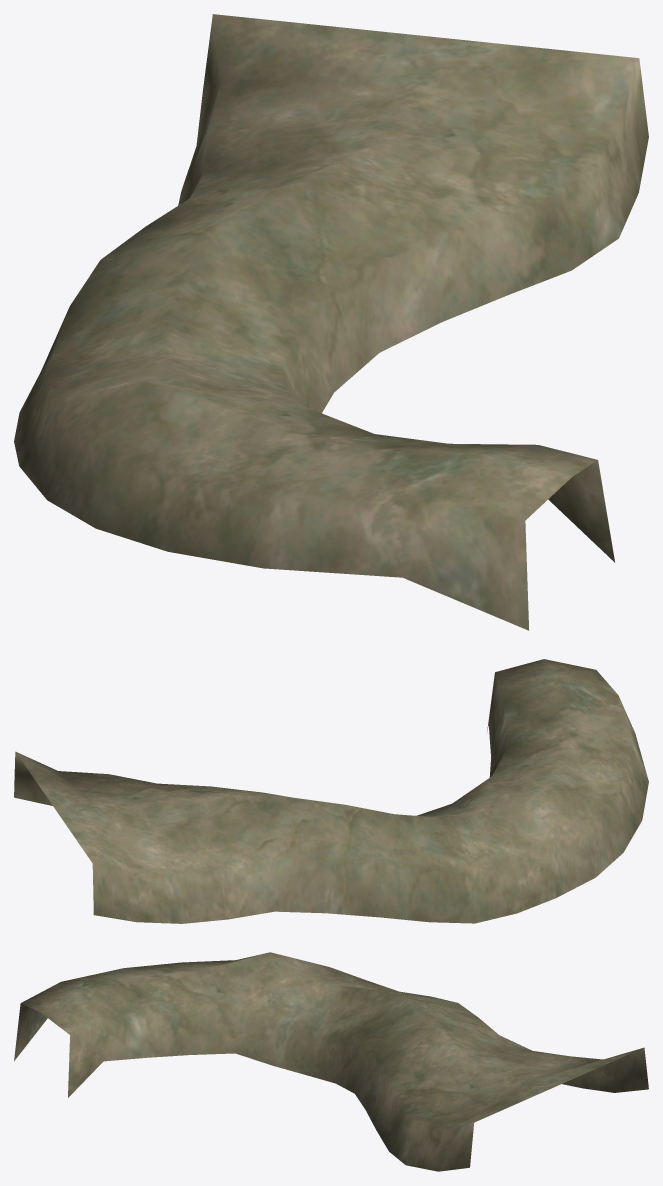
The model's file is EKH_BARRELROOM_PS_JA1_RIVERROOF_747356.fbx.
3 renders of one model, top to bottom at view 1: azimuth 30°, elevation 25°; view 2: azimuth 150°, elevation 25°; view 3: azimuth 270°, elevation 25°, orthographic. The views are drawn at different scales.
Parts seen in each view (by area): view 1: EKH_BARRELROOM_PS_JA1_RIVERROOF_747356; view 2: EKH_BARRELROOM_PS_JA1_RIVERROOF_747356; view 3: EKH_BARRELROOM_PS_JA1_RIVERROOF_747356.
Boxes of the visible parts, x1,y1,x2,y2 form: EKH_BARRELROOM_PS_JA1_RIVERROOF_747356: [14, 14, 648, 630]; EKH_BARRELROOM_PS_JA1_RIVERROOF_747356: [14, 659, 648, 923]; EKH_BARRELROOM_PS_JA1_RIVERROOF_747356: [14, 952, 648, 1171].
Size of the model in its own units: 116899 by 21840 by 150238.
Materials: 1 (1 with a texture image).
